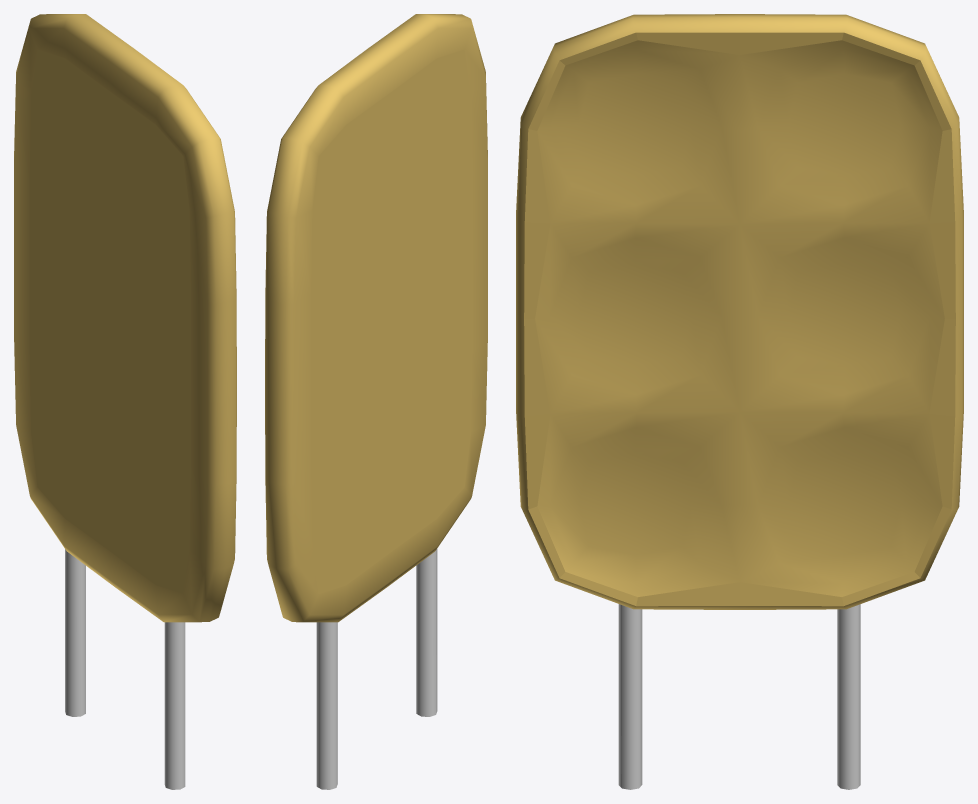
File: dashboard.glb
3 views of the same model, side by side, from view 1: azimuth 30°, elevation 25°; view 2: azimuth 150°, elevation 25°; view 3: azimuth 270°, elevation 25° (orthographic). The views are drawn at different scales.
Visible parts, largest first — view 1: Dashboard; view 2: Dashboard; view 3: Dashboard.
Part boxes in pixels (<box>): Dashboard: <box>14,14,236,789</box>; Dashboard: <box>265,14,487,789</box>; Dashboard: <box>516,14,963,789</box>.
Size of the model in its own units: 0.1708 by 4.05 by 2.14.
